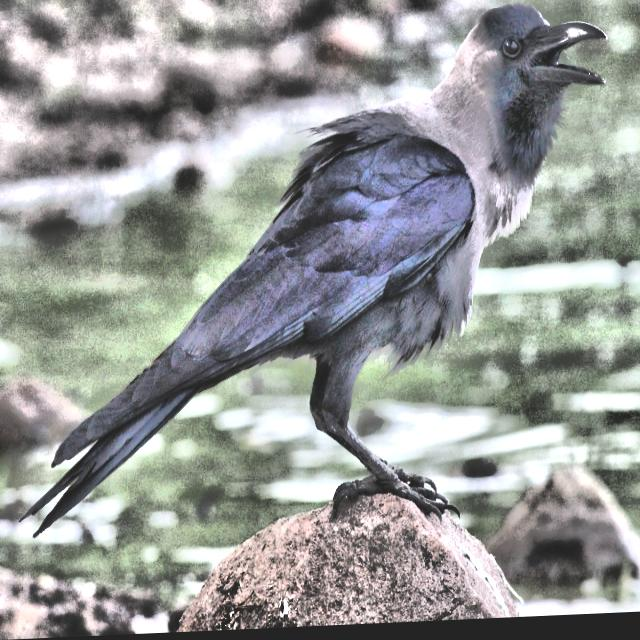crow: (12, 0, 610, 557)
